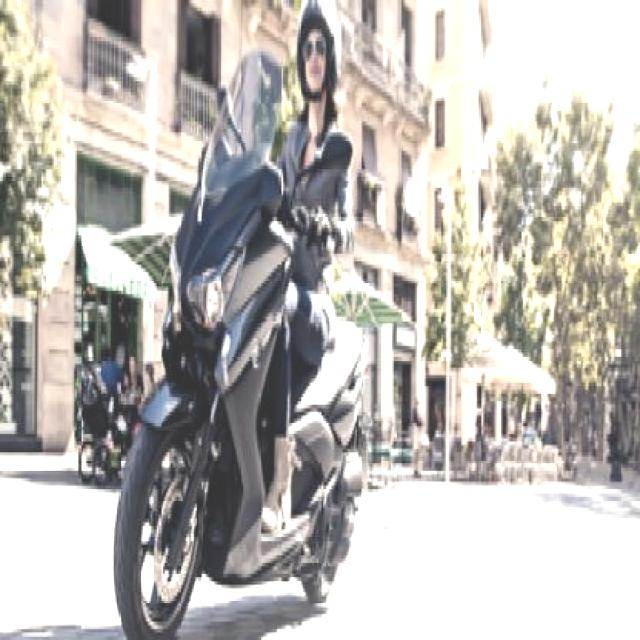With Helmet: (291, 0, 343, 111)
